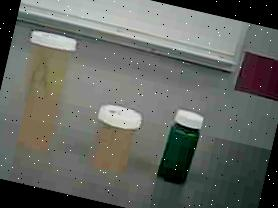Bottle A: (5, 28, 80, 152)
Bottle B: (86, 101, 146, 176)
Bottle C: (156, 107, 210, 187)
